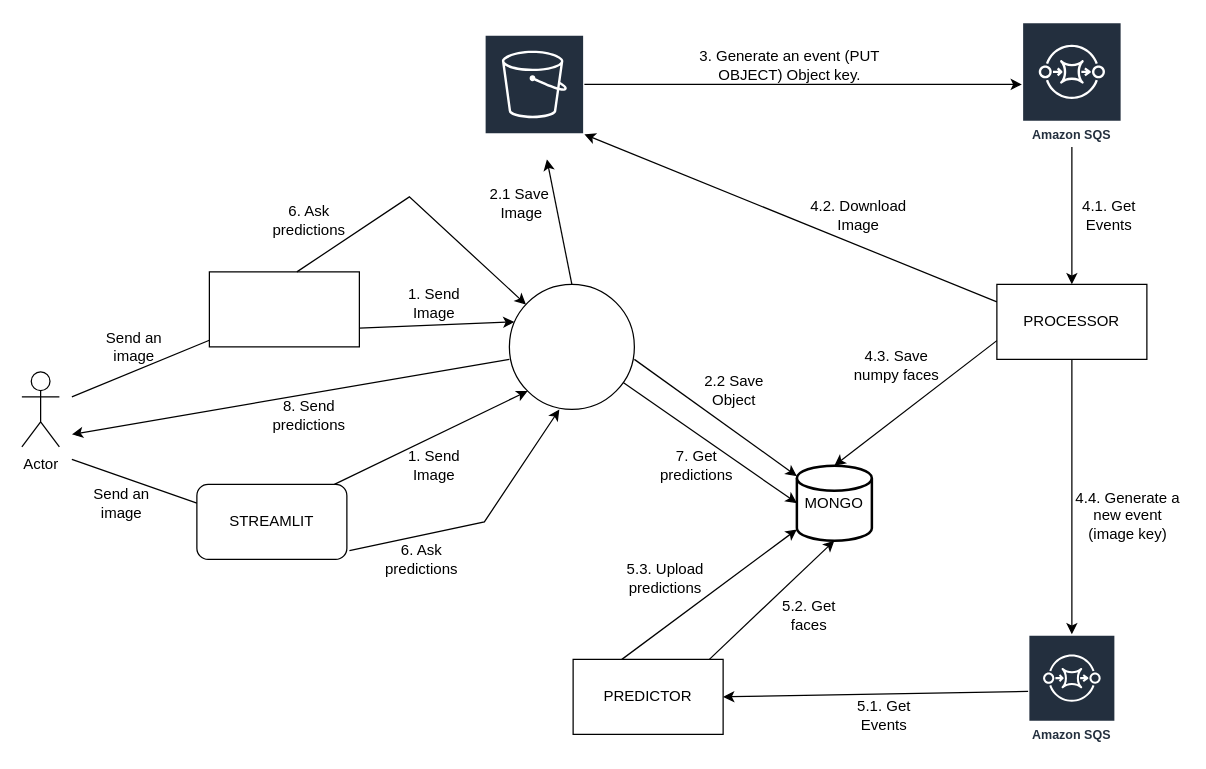
Some shapes in this 1206 by 769 pixel diagram are drawn without their labels. Each missing label, with the centre of its shape:
"Amazon S3" belongs at (533,96).
"BOT TELEGRAM" belongs at (283,309).
"FASTAPI" belongs at (571,346).
